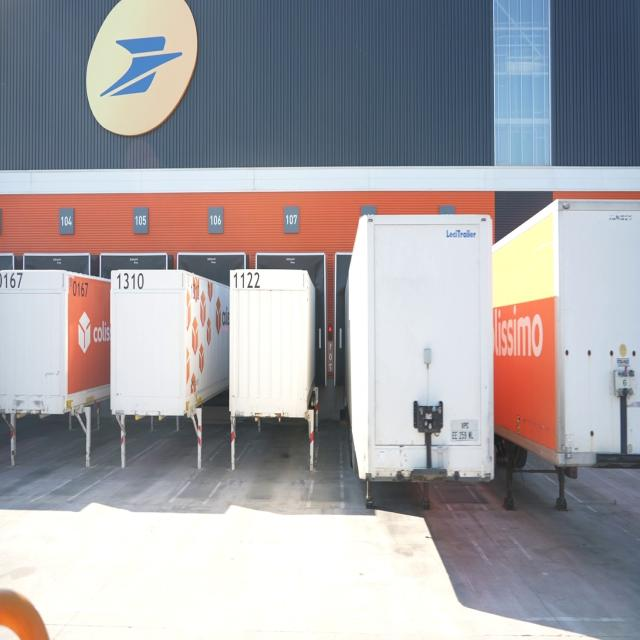Code: (228, 266, 266, 293), (114, 269, 148, 294), (68, 279, 92, 303)
